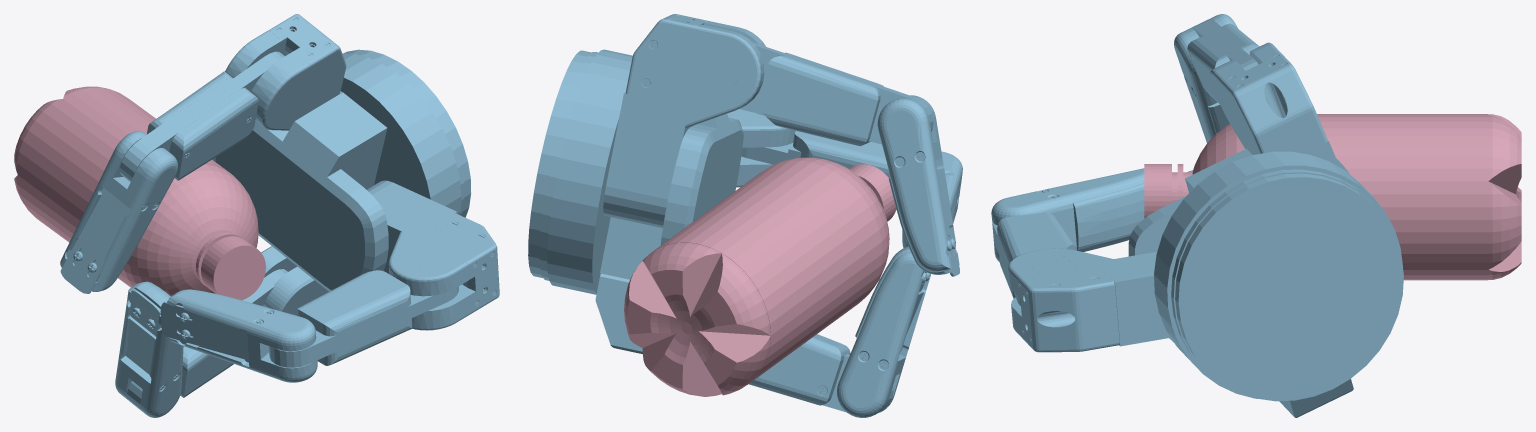
3 renders of one model, left to right at view 1: azimuth 30°, elevation 25°; view 2: azimuth 150°, elevation 25°; view 3: azimuth 270°, elevation 25°, orthographic. The views are drawn at different scales.
Parts seen in each view (by area): view 1: world; view 2: world; view 3: world.
Part boxes in pixels (<box>): world: <box>14,14,499,417</box>; world: <box>528,14,962,417</box>; world: <box>991,14,1521,417</box>.
Bounding box in the file's own units: 0.173 × 0.1506 × 0.1918.
